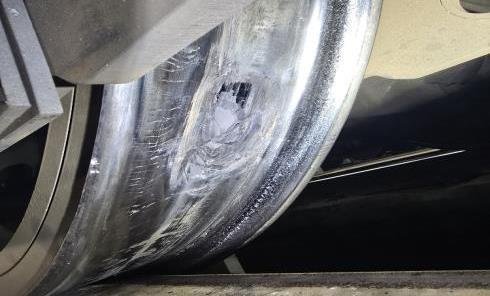Shelling: (179, 81, 257, 194)
